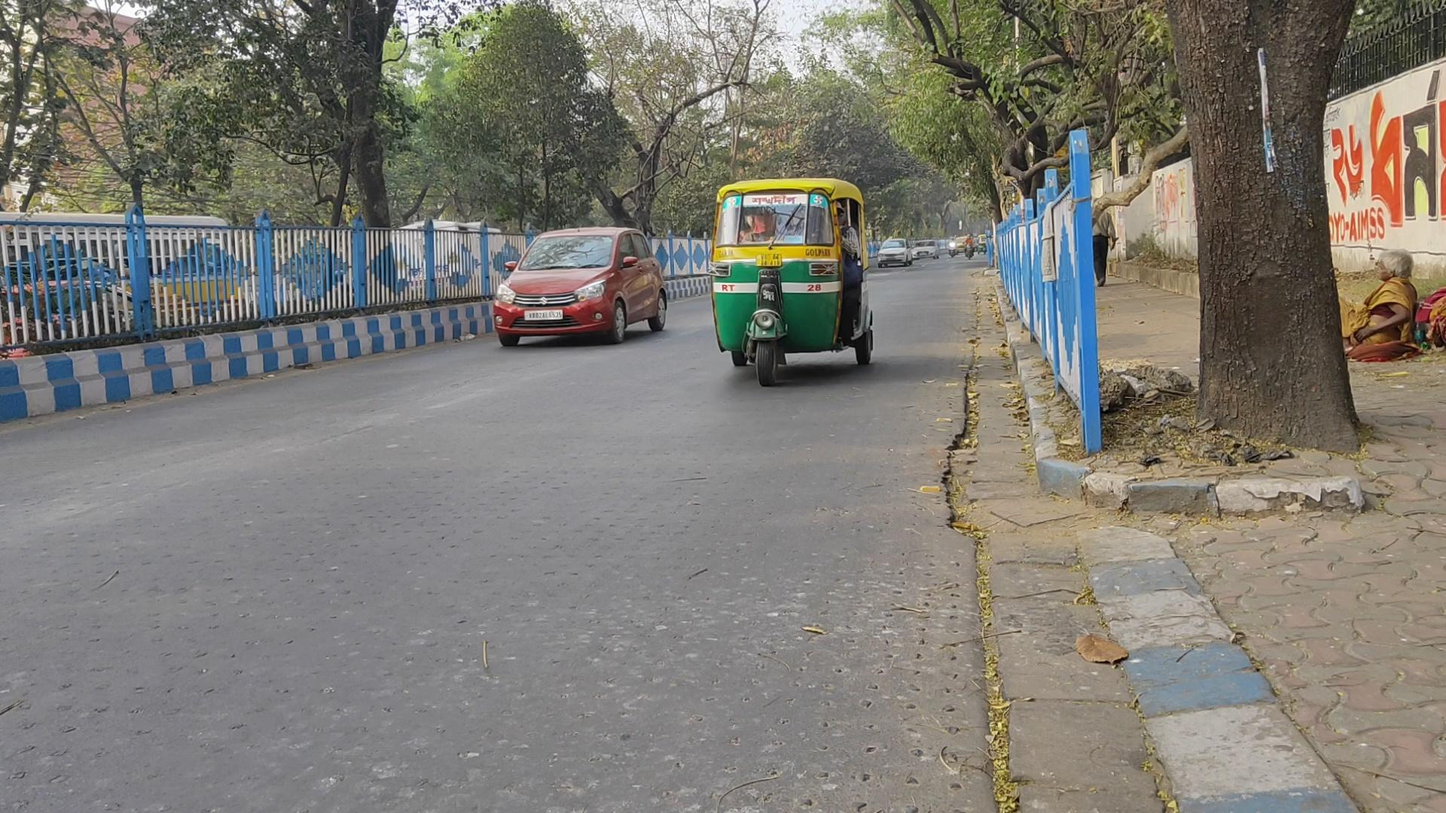Auto: (709, 177, 874, 387)
bike: (962, 233, 976, 261), (947, 235, 959, 260)
car: (493, 224, 667, 347), (877, 236, 913, 269), (910, 239, 940, 263)
